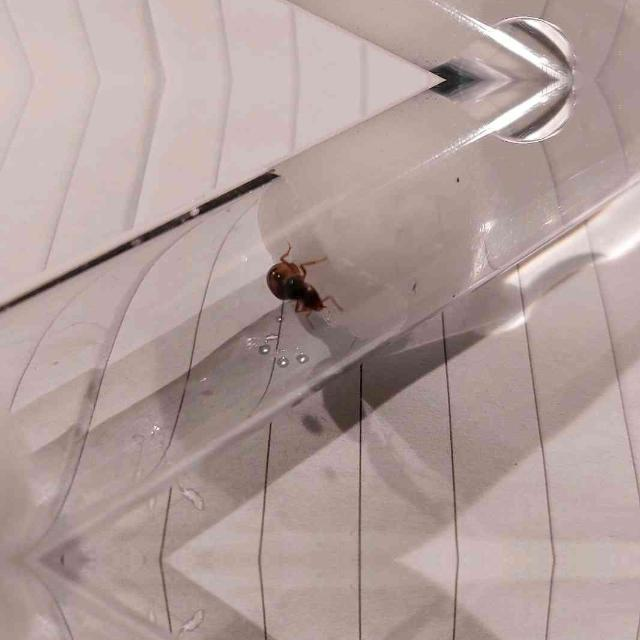Formica: (267, 238, 337, 332)
